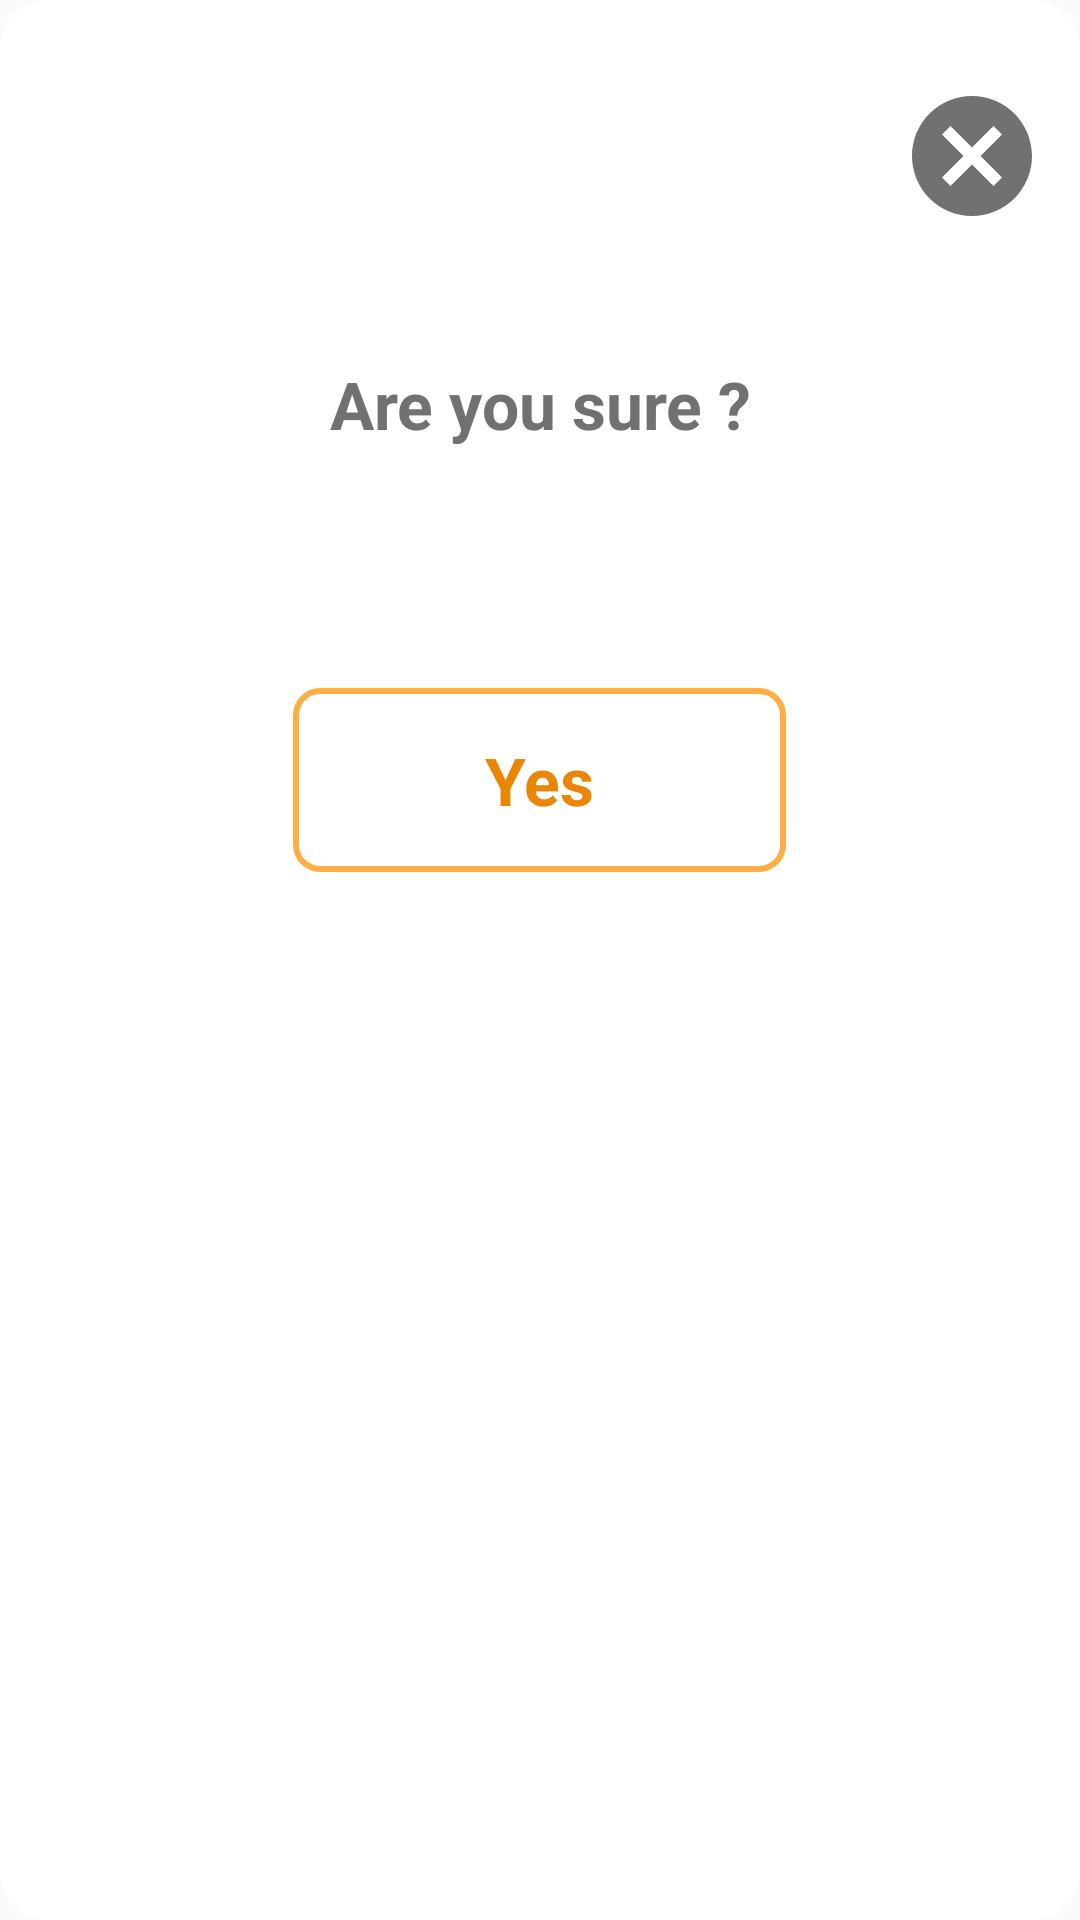

Where to tap for icons on this 1080 x 1920 app screen, as (x,y):
Close: (972,156)
